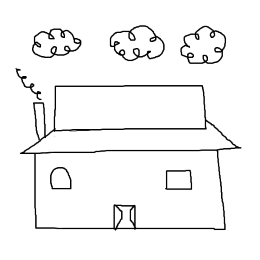clouds: (108, 24, 166, 61), (179, 24, 227, 65), (31, 28, 80, 59)
door: (110, 200, 141, 234)
open_window: (165, 168, 193, 191), (50, 167, 71, 189)
roof: (20, 82, 241, 153)
smoking_chimney: (13, 61, 57, 147)
wall: (33, 149, 225, 231)
